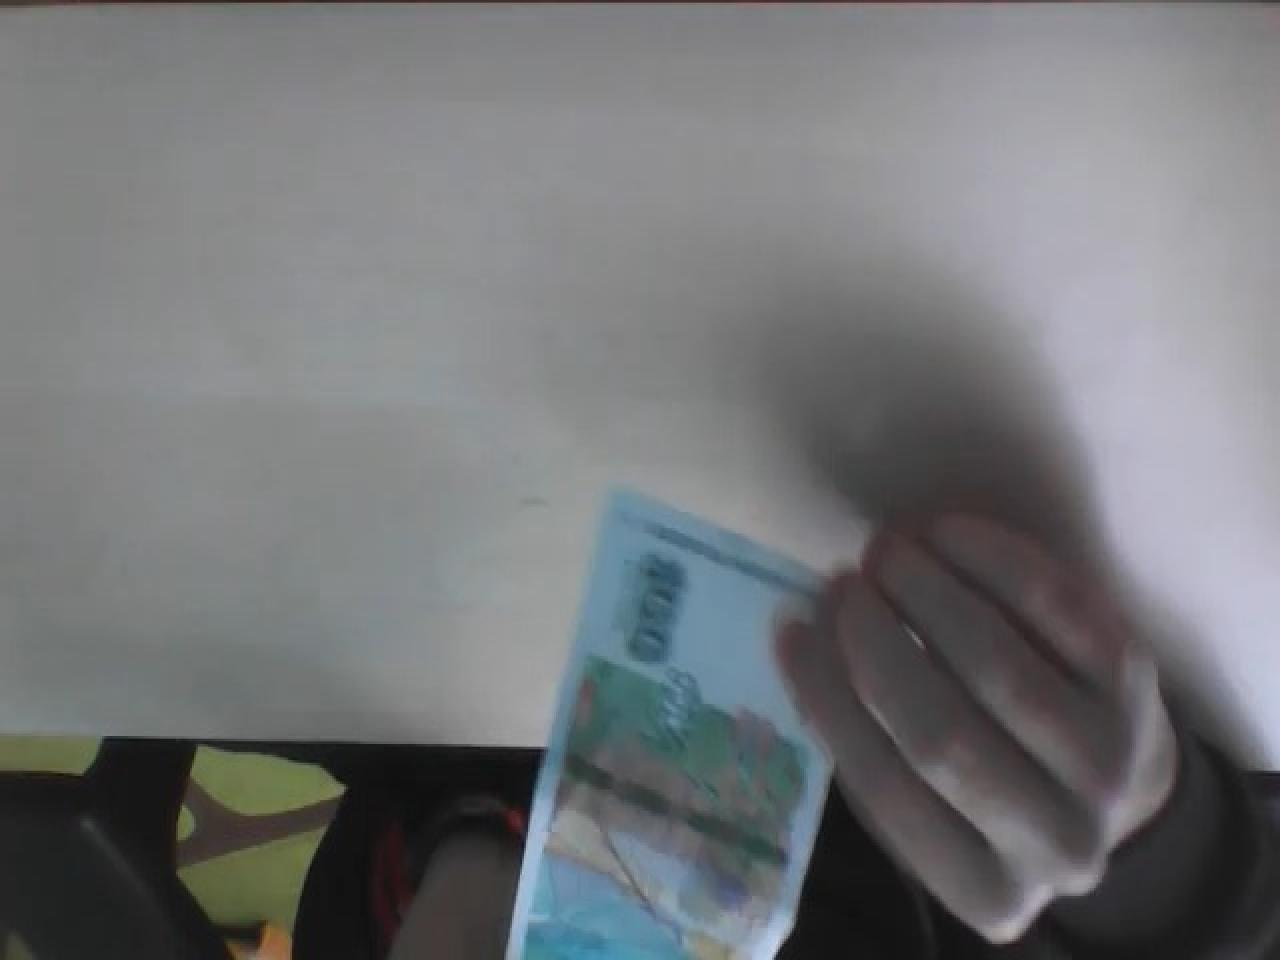100leva: (506, 491, 844, 960)
